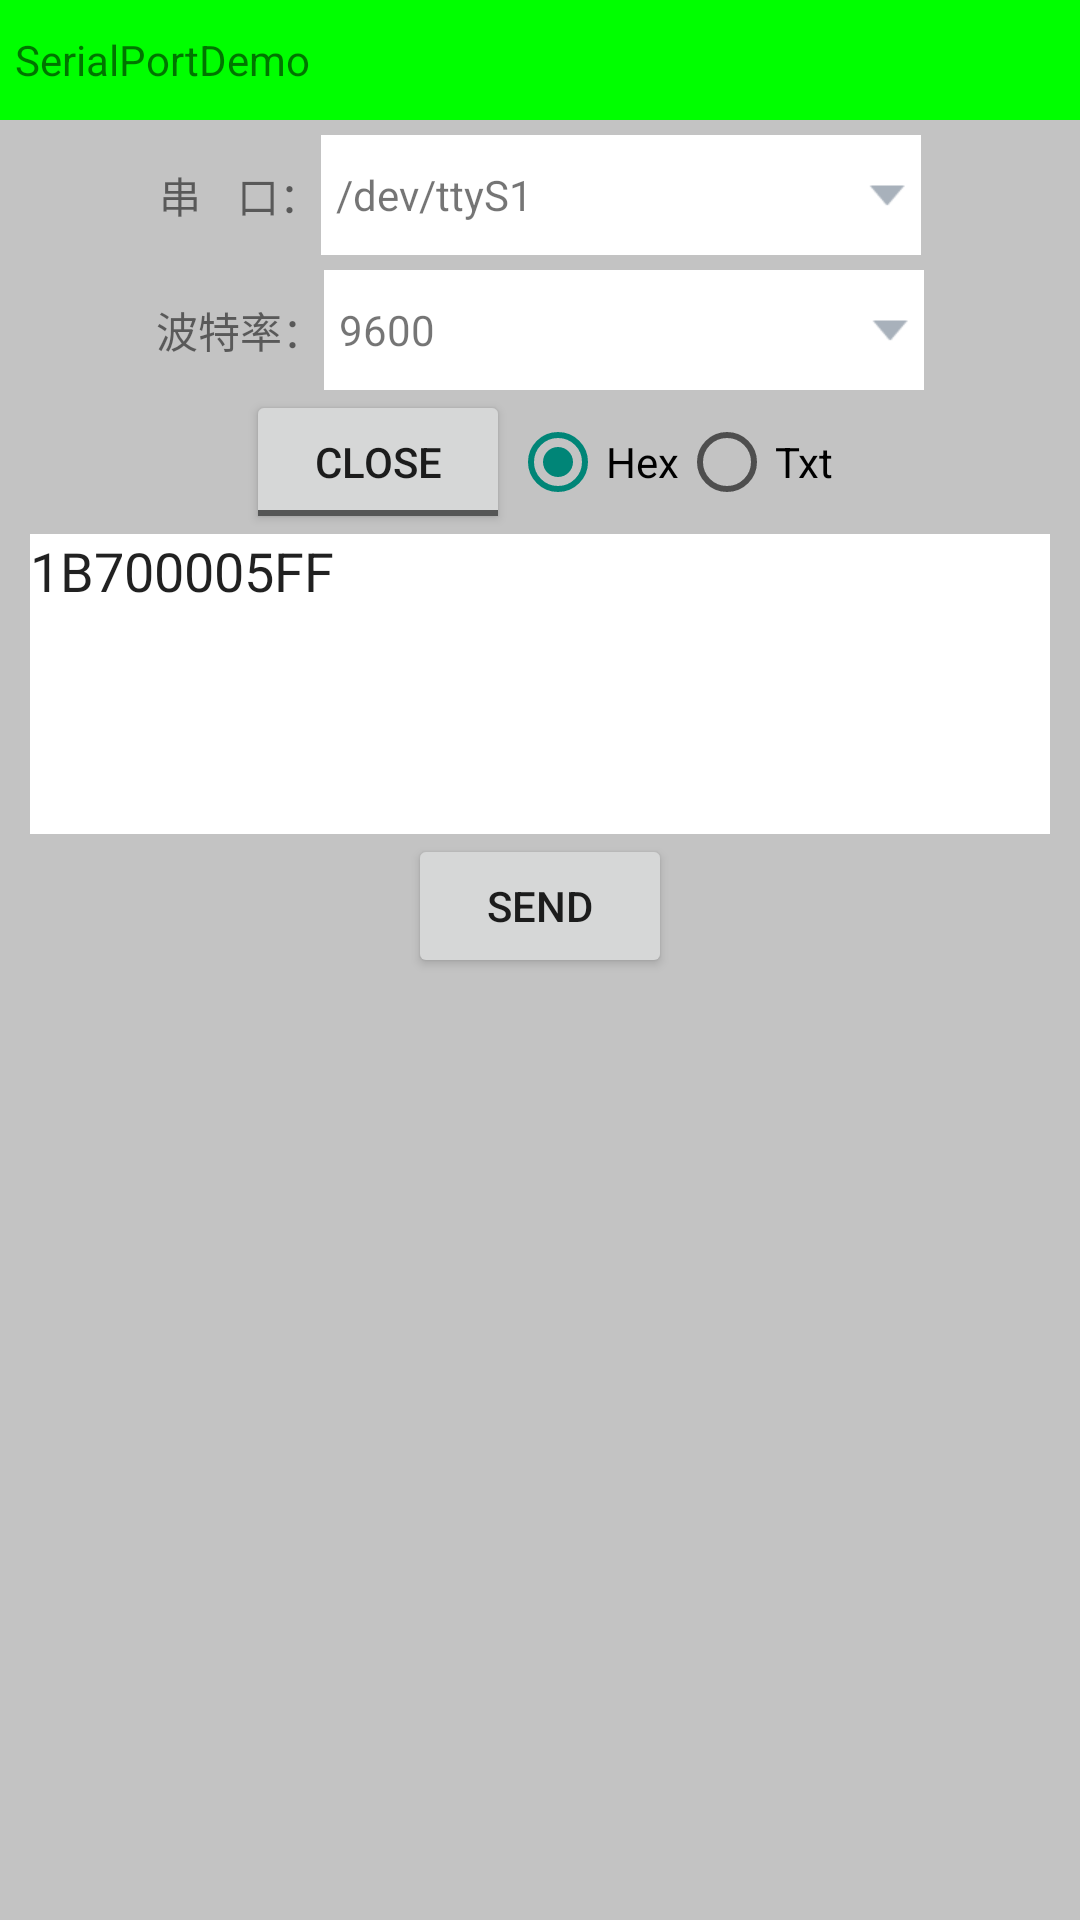

Screen size 1080w x 1920h. Icon name, then its center in pixels as point (x, y):
arrow down: point (887, 195), point (890, 330)
